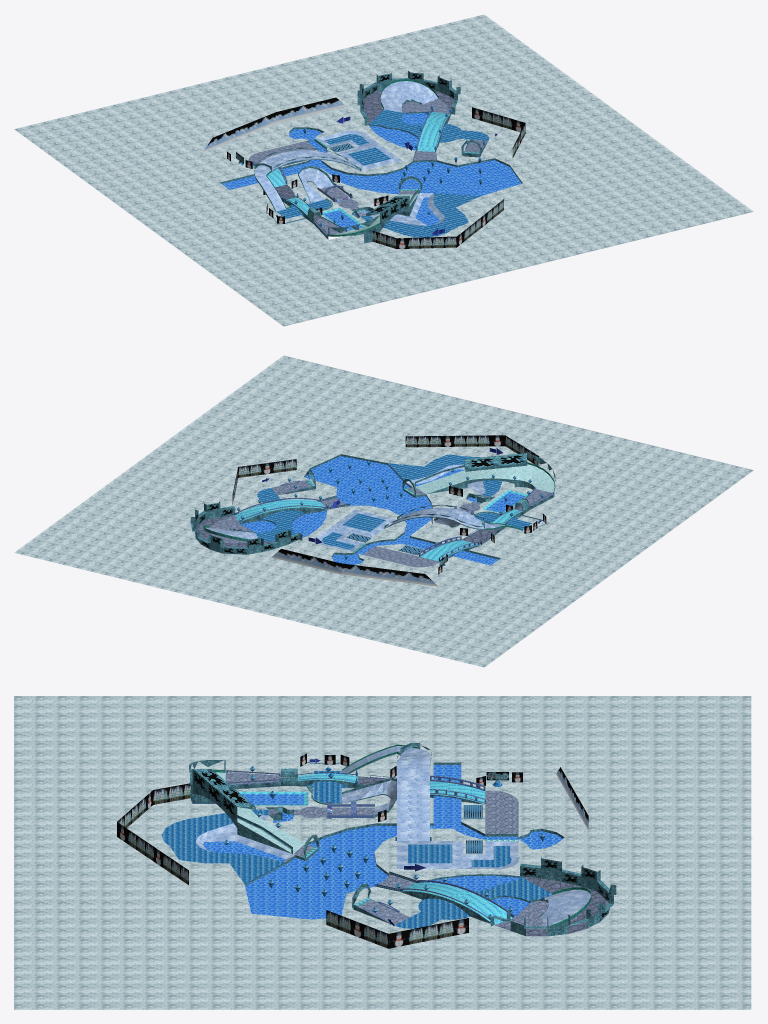
3 renders of one model, top to bottom at view 1: azimuth 30°, elevation 25°; view 2: azimuth 150°, elevation 25°; view 3: azimuth 270°, elevation 25°, orthographic. The views are drawn at different scales.
Visible parts, largest first — view 1: course-SKP--NIEVE, course-SKP--zwater, course-SKP--wphieloboth, course-SKP--PHsemitransp, course-SKP--muroHbo, course-SKP--PN, course-SKP--f11, course-SKP--f12, course-SKP--xpuente, course-SKP--semiwallboth, course-SKP--fbo, course-SKP--PN1 (+1 smaller); view 2: course-SKP--NIEVE, course-SKP--zwater, course-SKP--muroHbo, course-SKP--PHsemitransp, course-SKP--wphieloboth, course-SKP--PN, course-SKP--f12, course-SKP--f11, course-SKP--phnieve, course-SKP--semiwallboth, course-SKP--xpuente, course-SKP--fbo (+2 smaller); view 3: course-SKP--NIEVE, course-SKP--zwater, course-SKP--PHsemitransp, course-SKP--wphieloboth, course-SKP--muroHbo, course-SKP--PN, course-SKP--f11, course-SKP--xpuente, course-SKP--semiwallboth, course-SKP--bardasbo, course-SKP--fbo, course-SKP--PN1 (+3 smaller).
Part boxes in pixels (box(x1,y1,x2,y2)): course-SKP--NIEVE: box(14, 14, 753, 326); course-SKP--zwater: box(222, 113, 521, 230); course-SKP--wphieloboth: box(254, 81, 445, 225); course-SKP--PHsemitransp: box(238, 106, 489, 237); course-SKP--muroHbo: box(220, 71, 522, 243); course-SKP--PN: box(248, 98, 487, 234); course-SKP--f11: box(372, 110, 525, 248); course-SKP--f12: box(202, 97, 345, 152); course-SKP--xpuente: box(253, 111, 450, 231); course-SKP--semiwallboth: box(361, 72, 453, 222); course-SKP--fbo: box(227, 107, 525, 249); course-SKP--PN1: box(275, 89, 453, 219); course-SKP--NIEVE: box(14, 355, 753, 667); course-SKP--zwater: box(241, 456, 524, 565); course-SKP--muroHbo: box(190, 452, 555, 560); course-SKP--PHsemitransp: box(237, 454, 543, 566); course-SKP--wphieloboth: box(205, 464, 519, 552); course-SKP--PN: box(209, 480, 553, 567); course-SKP--f12: box(272, 549, 438, 586); course-SKP--f11: box(233, 435, 539, 499); course-SKP--phnieve: box(415, 464, 554, 493); course-SKP--semiwallboth: box(194, 453, 527, 554); course-SKP--xpuente: box(235, 490, 528, 561); course-SKP--fbo: box(232, 435, 546, 574); course-SKP--NIEVE: box(14, 696, 751, 1009); course-SKP--zwater: box(203, 765, 562, 919); course-SKP--PHsemitransp: box(161, 766, 552, 928); course-SKP--wphieloboth: box(195, 746, 590, 926); course-SKP--muroHbo: box(189, 742, 616, 936); course-SKP--PN: box(225, 772, 577, 929); course-SKP--f11: box(117, 783, 453, 948); course-SKP--xpuente: box(238, 773, 512, 924); course-SKP--semiwallboth: box(192, 769, 610, 921); course-SKP--bardasbo: box(226, 770, 514, 924); course-SKP--fbo: box(117, 753, 522, 948); course-SKP--PN1: box(357, 776, 608, 936).
Size of the model in its own units: 134520 by 8780 by 134015.
21 materials, 20 textured.
